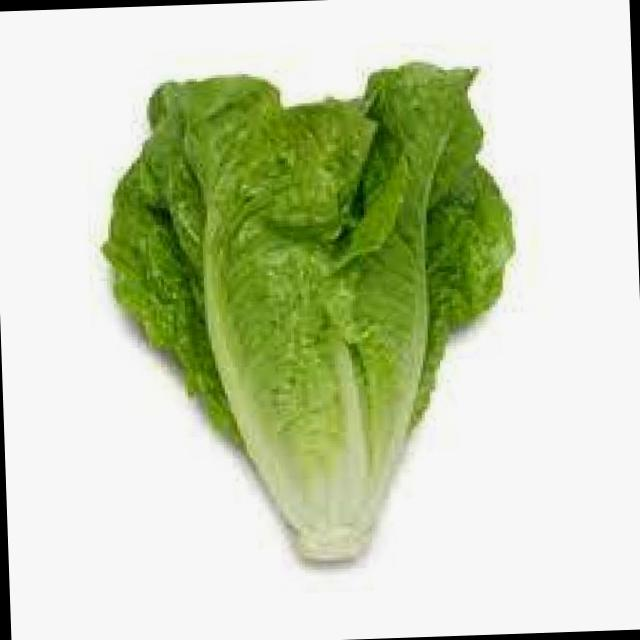Lettuce-Ready-to-Harvest: (104, 63, 513, 562)
